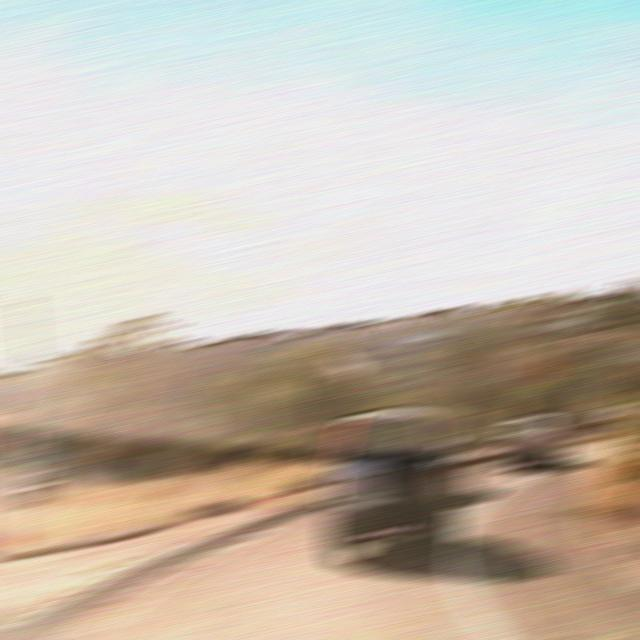yield: (448, 366, 477, 386)
